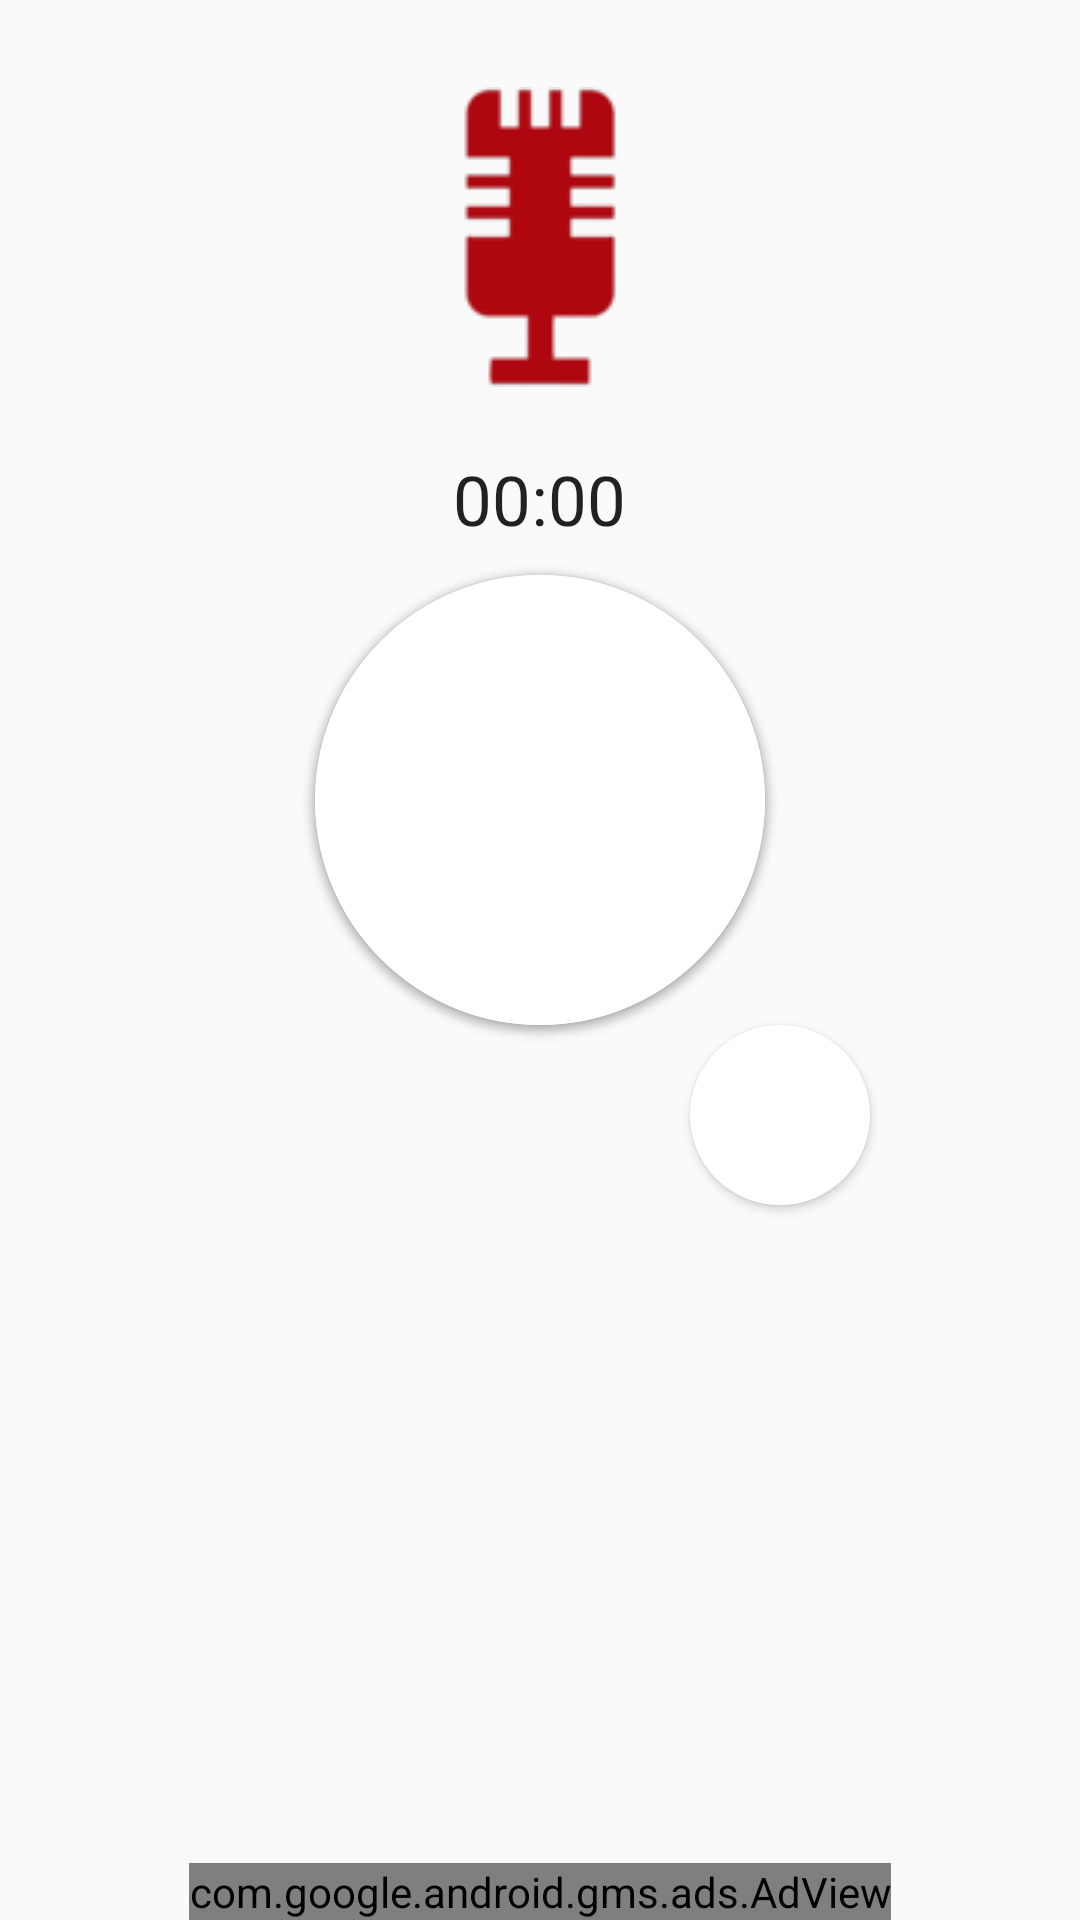

Icons on this 1080px x 1920px Android screen, each with its box as (x1, y1, x2, y2):
mic: (464, 89, 616, 387)
